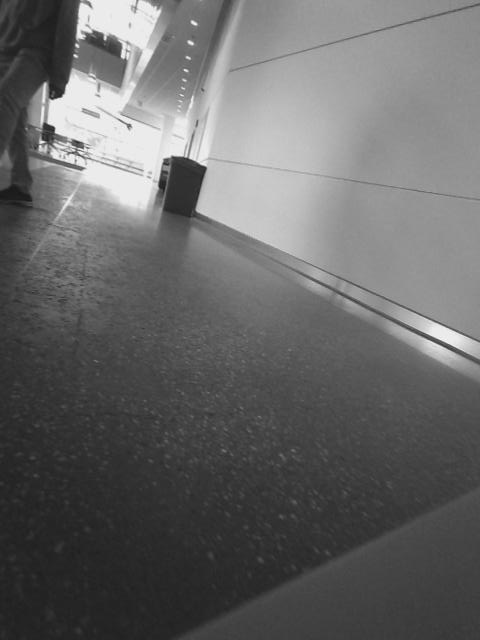ball: (101, 249, 174, 323)
